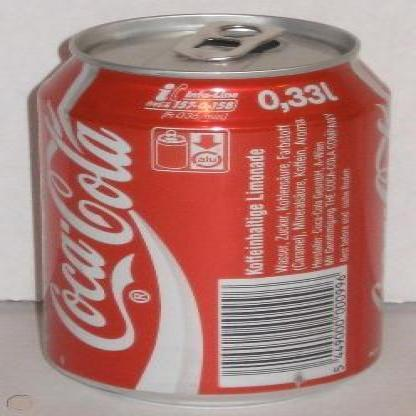alumunium_can: (30, 11, 398, 409)
